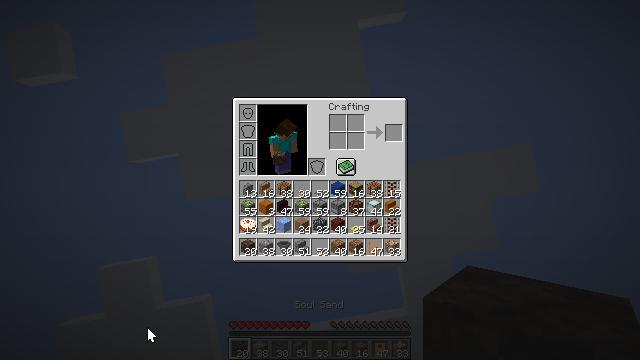cursor: (327, 147, 343, 157)
